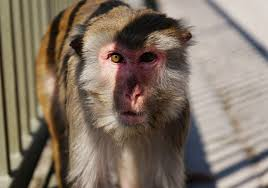monkey: (29, 6, 241, 173)
